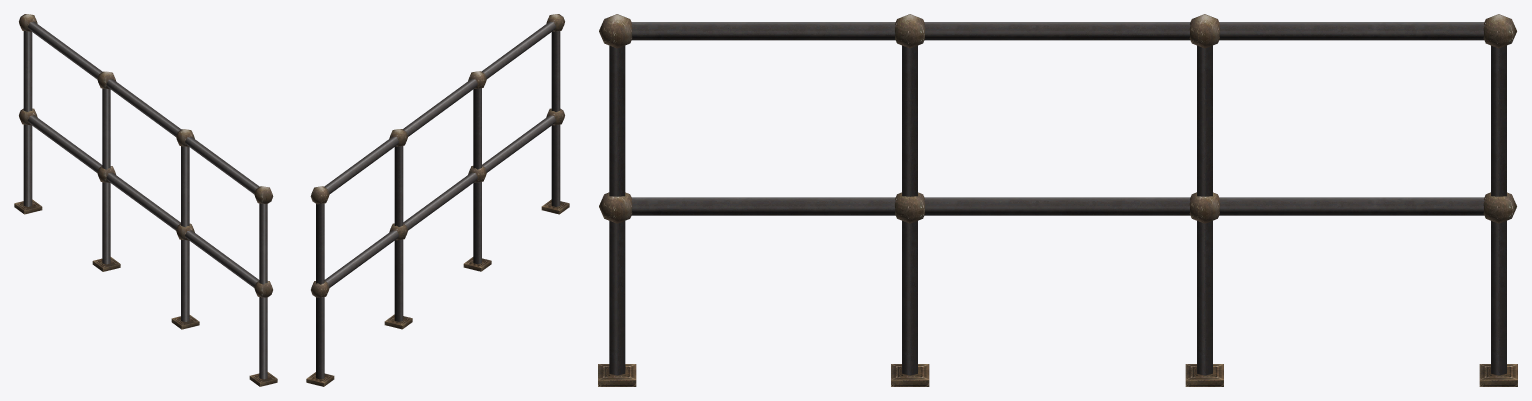
The model's file is railings_factory_3m.DAE.
3 renders of one model, left to right at view 1: azimuth 30°, elevation 25°; view 2: azimuth 150°, elevation 25°; view 3: azimuth 270°, elevation 25°, orthographic. The views are drawn at different scales.
Visible parts, largest first — view 1: Object040; view 2: Object040; view 3: Object040.
Part boxes in pixels (x1=…): Object040: x1=14, y1=14, x2=277, y2=386; Object040: x1=306, y1=14, x2=569, y2=386; Object040: x1=598, y1=14, x2=1517, y2=386.
Size of the model in its own units: 0.125 by 1.31 by 3.
